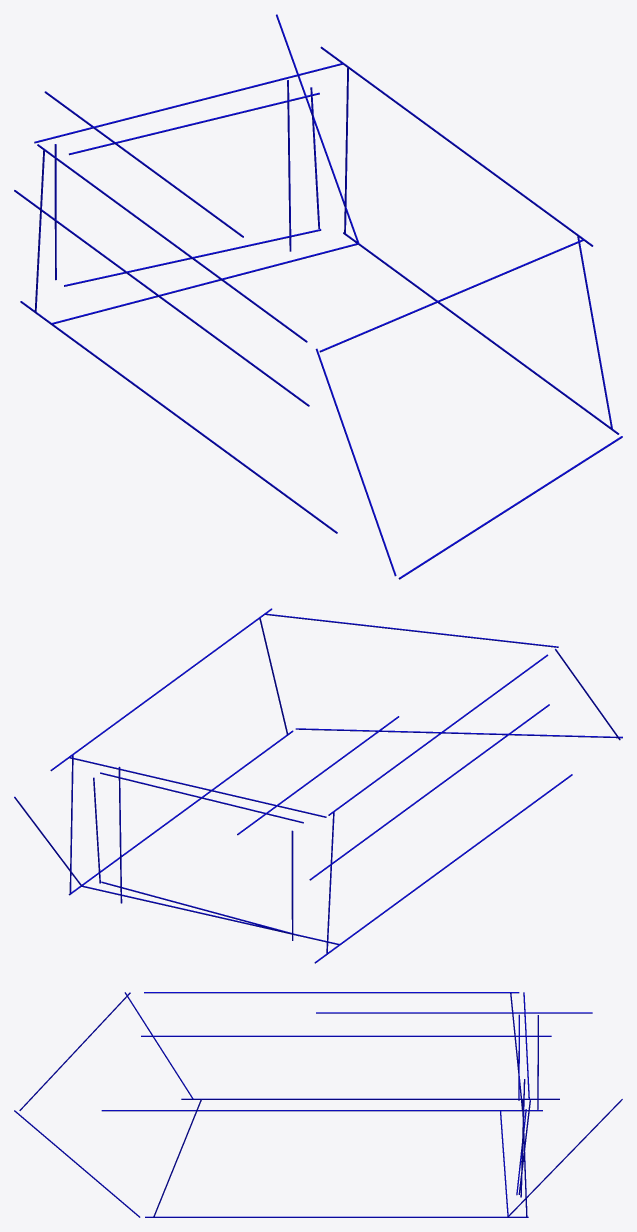
The model's file is corrected_3d_strokes.glb.
3 renders of one model, top to bottom at view 1: azimuth 30°, elevation 25°; view 2: azimuth 150°, elevation 25°; view 3: azimuth 270°, elevation 25°, orthographic. The views are drawn at different scales.
Parts seen in each view (by area): view 1: world; view 2: world; view 3: world.
Part boxes in pixels (x1,y1,x2,y2): world: [14, 14, 622, 579]; world: [14, 608, 622, 963]; world: [14, 992, 622, 1217].
Size of the model in its own units: 7.32 by 3.8 by 17.59.
